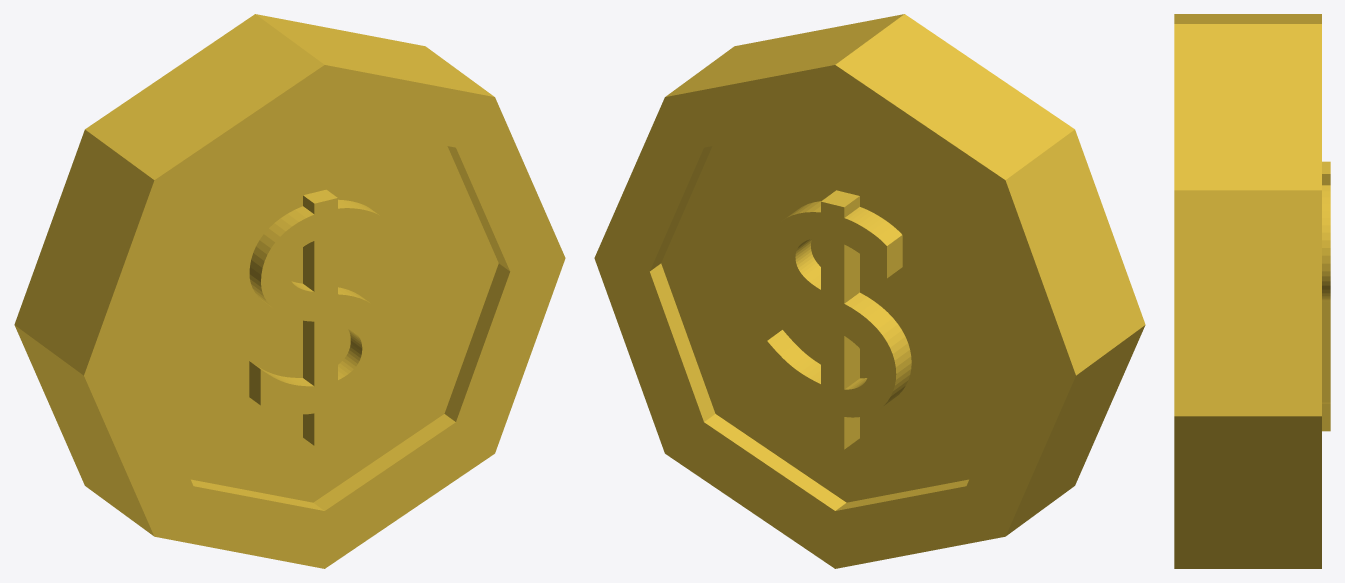
File: Coin.fbx
3 renders of one model, left to right at view 1: azimuth 30°, elevation 25°; view 2: azimuth 150°, elevation 25°; view 3: azimuth 270°, elevation 25°, orthographic. The views are drawn at different scales.
Visible parts, largest first — view 1: Coin; view 2: Coin; view 3: Coin.
Boxes of the visible parts, x1=… form: Coin: x1=14, y1=14, x2=565, y2=568; Coin: x1=594, y1=14, x2=1145, y2=568; Coin: x1=1174, y1=14, x2=1330, y2=568.
Bounding box in the file's own units: 227 × 227 × 60.07.
